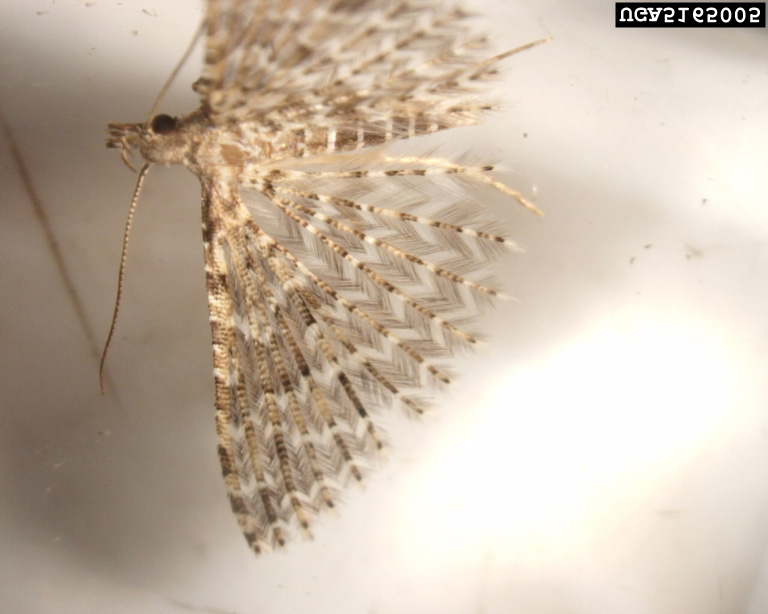Alucitidae: (94, 1, 557, 557)
moth: (96, 1, 559, 559)
